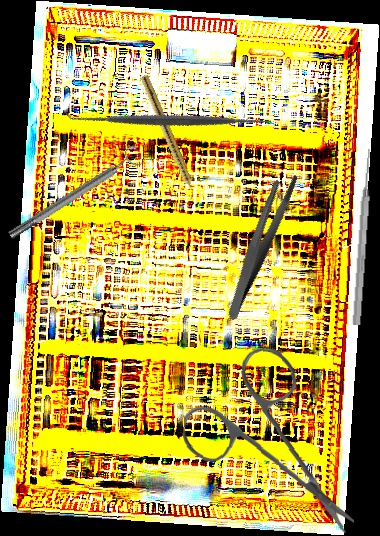Dressing Forceps: (193, 167, 327, 322)
Fixation Ring: (3, 143, 147, 245)
Handpiece: (137, 74, 200, 201)
Iris Scissors: (178, 344, 363, 534)
Pusher: (350, 148, 376, 326)
Spatula Surgical: (63, 12, 278, 228)
